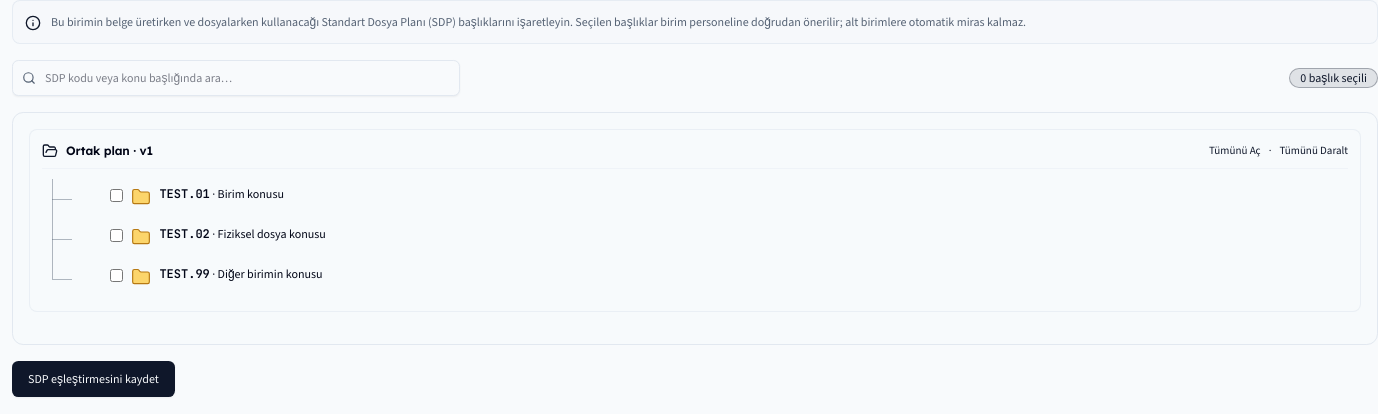
Test: Birim SDP eşleştirmesi › aramayla gizlenen seçimi de kaydetme yükünde tutar
Click the checkbox labelled "TEST.01 · Birim konusu". click: click(117, 196)
box: [110, 189, 123, 202]
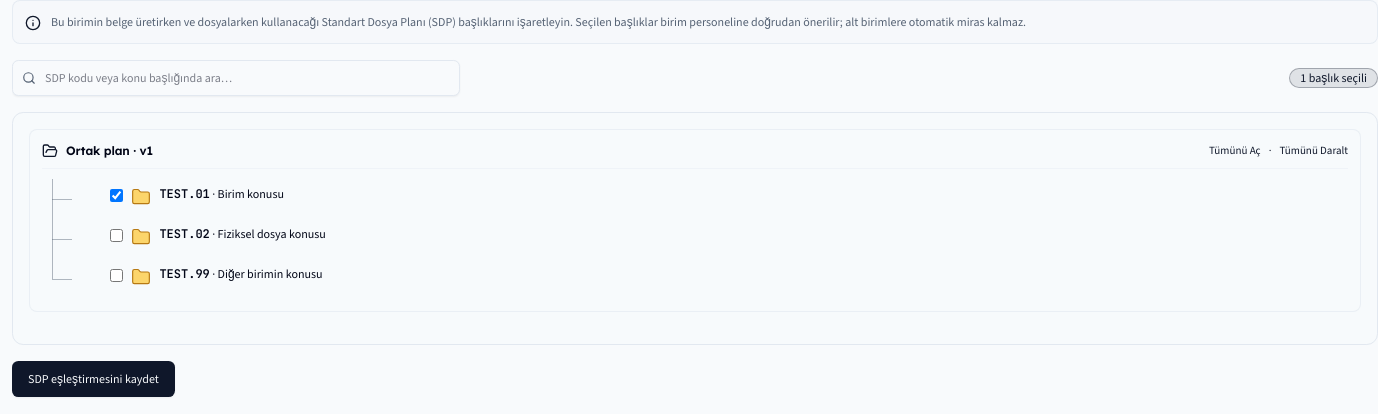
Type "TEST.02" into the search field. click: (236, 78)
box: [12, 60, 460, 96]
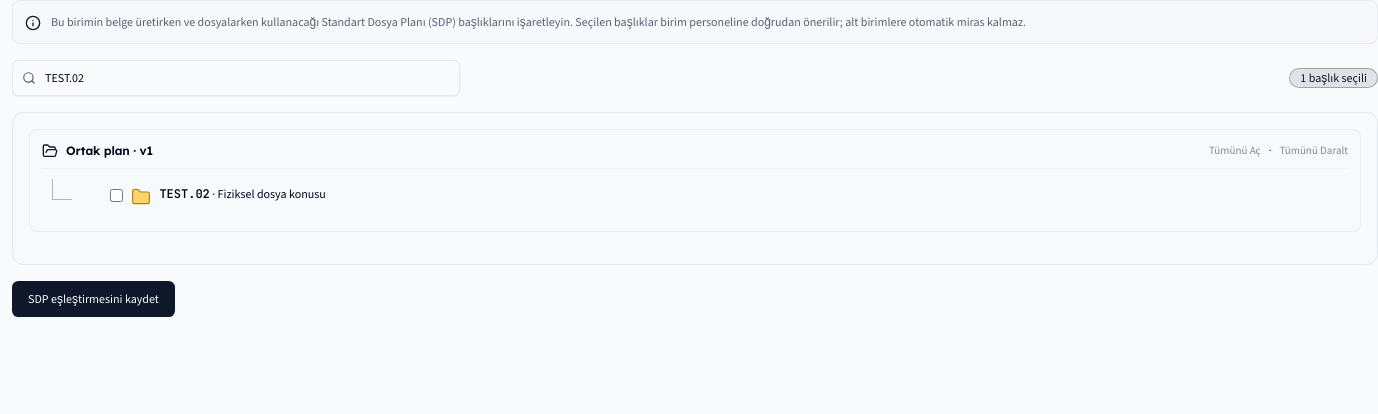
Expected: the checkbox labelled "TEST.01 · Birim konusu" is gone
